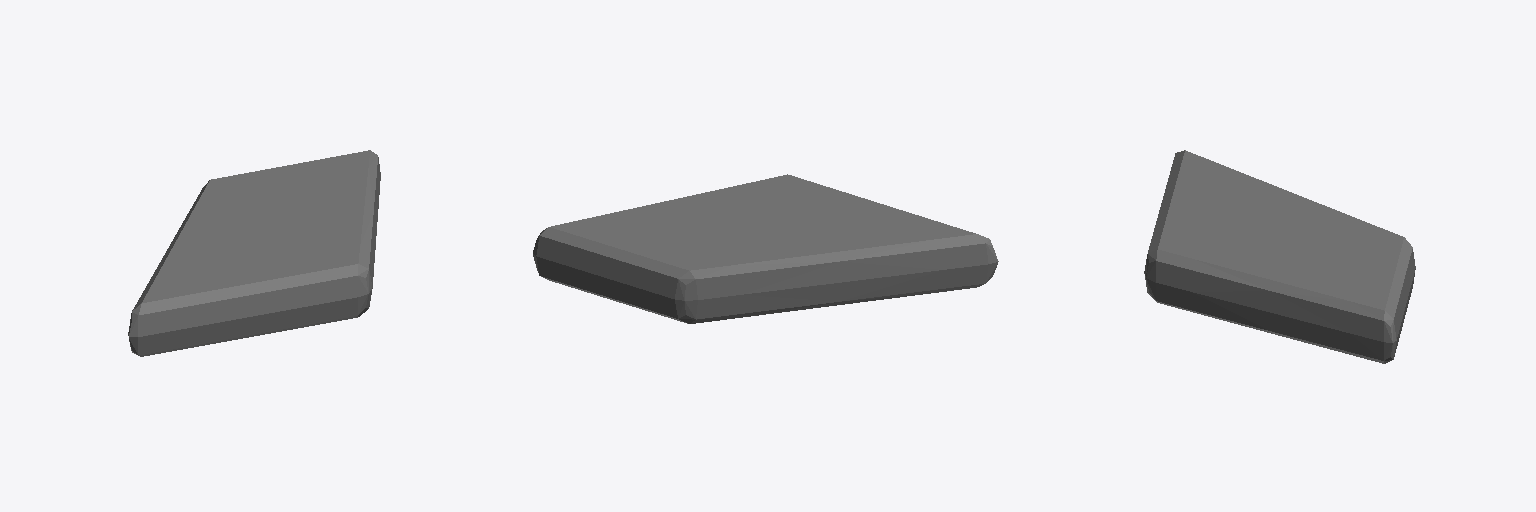
3 renders of one model, left to right at view 1: azimuth 30°, elevation 25°; view 2: azimuth 150°, elevation 25°; view 3: azimuth 270°, elevation 25°, orthographic.
Parts seen in each view (by area): view 1: polySurface1 bettingField topGrp; view 2: polySurface1 bettingField topGrp; view 3: polySurface1 bettingField topGrp.
Boxes of the visible parts, x1=… form: polySurface1 bettingField topGrp: x1=128, y1=150, x2=380, y2=356; polySurface1 bettingField topGrp: x1=533, y1=174, x2=998, y2=323; polySurface1 bettingField topGrp: x1=1144, y1=150, x2=1415, y2=363.
Size of the model in its own units: 3.01 by 0.43 by 1.98.